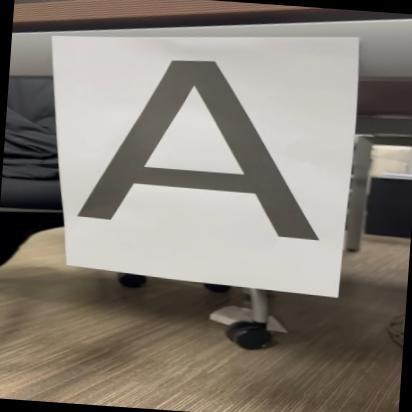seat: (76, 47, 332, 249)
